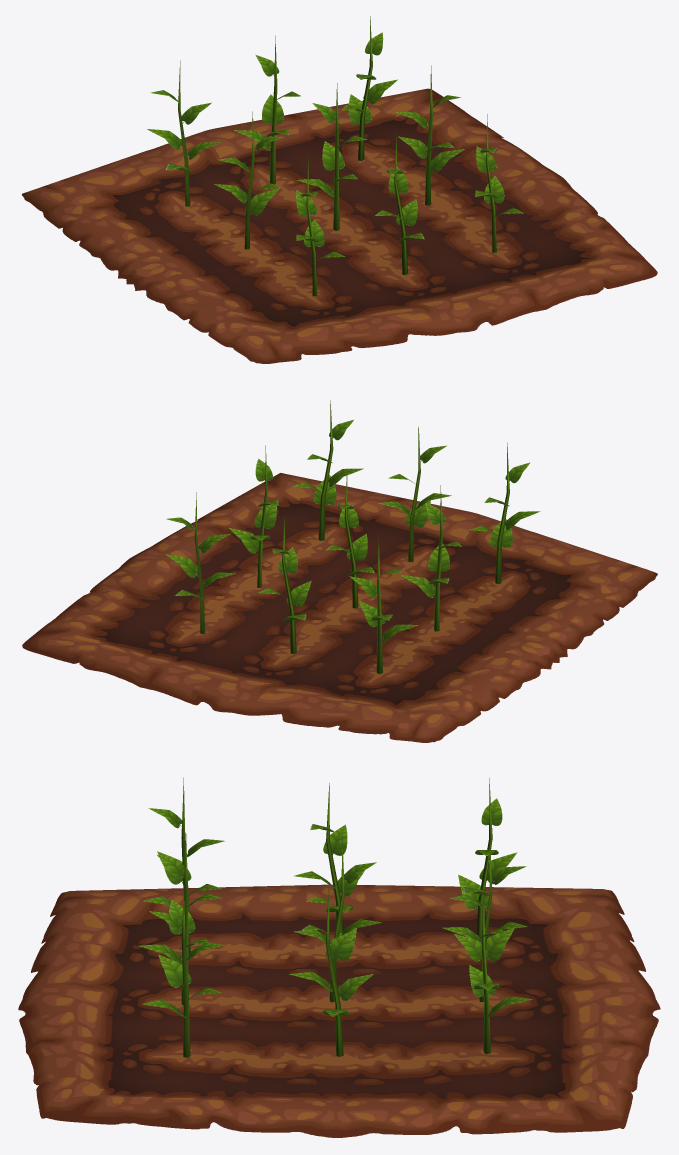
The model's file is BellPepper_Field_Orange_Lv1.FBX.
3 renders of one model, top to bottom at view 1: azimuth 30°, elevation 25°; view 2: azimuth 150°, elevation 25°; view 3: azimuth 270°, elevation 25°, orthographic. The views are drawn at different scales.
Parts seen in each view (by area): view 1: BellPepper_Field_Orange_Lv1; view 2: BellPepper_Field_Orange_Lv1; view 3: BellPepper_Field_Orange_Lv1.
Boxes of the visible parts, x1=… form: BellPepper_Field_Orange_Lv1: x1=22, y1=16, x2=657, y2=363; BellPepper_Field_Orange_Lv1: x1=22, y1=400, x2=657, y2=742; BellPepper_Field_Orange_Lv1: x1=18, y1=777, x2=660, y2=1137.
Size of the model in its own units: 274 by 89.52 by 296.
